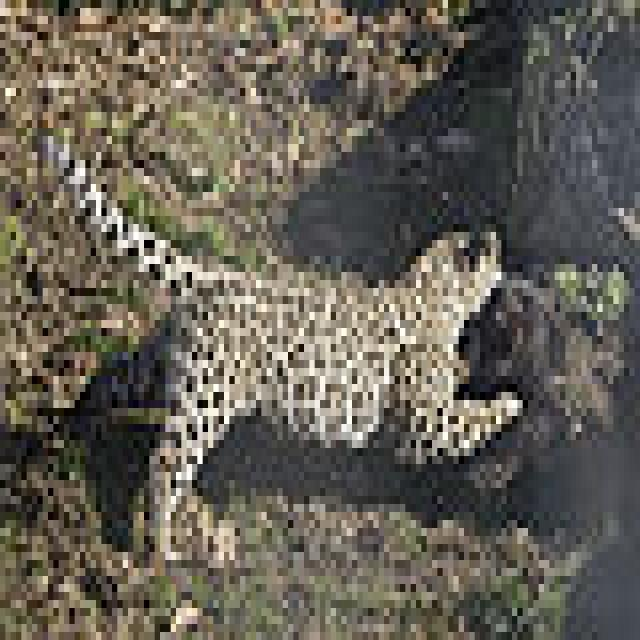Leopard: (32, 112, 528, 576)
